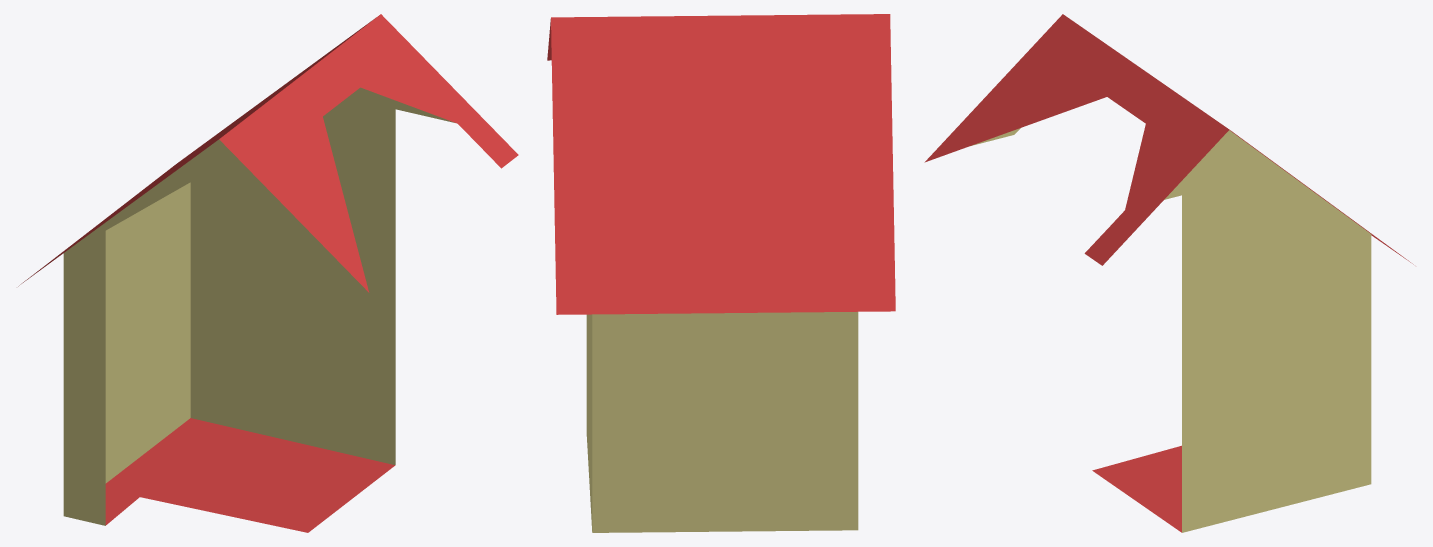
The picture shows the model from 3 angles, left to right: view 1: azimuth 30°, elevation 25°; view 2: azimuth 150°, elevation 25°; view 3: azimuth 270°, elevation 25°; orthographic projection. The views are drawn at different scales.
Bounding box in the file's own units: 13.48 × 14.3 × 13.02.
